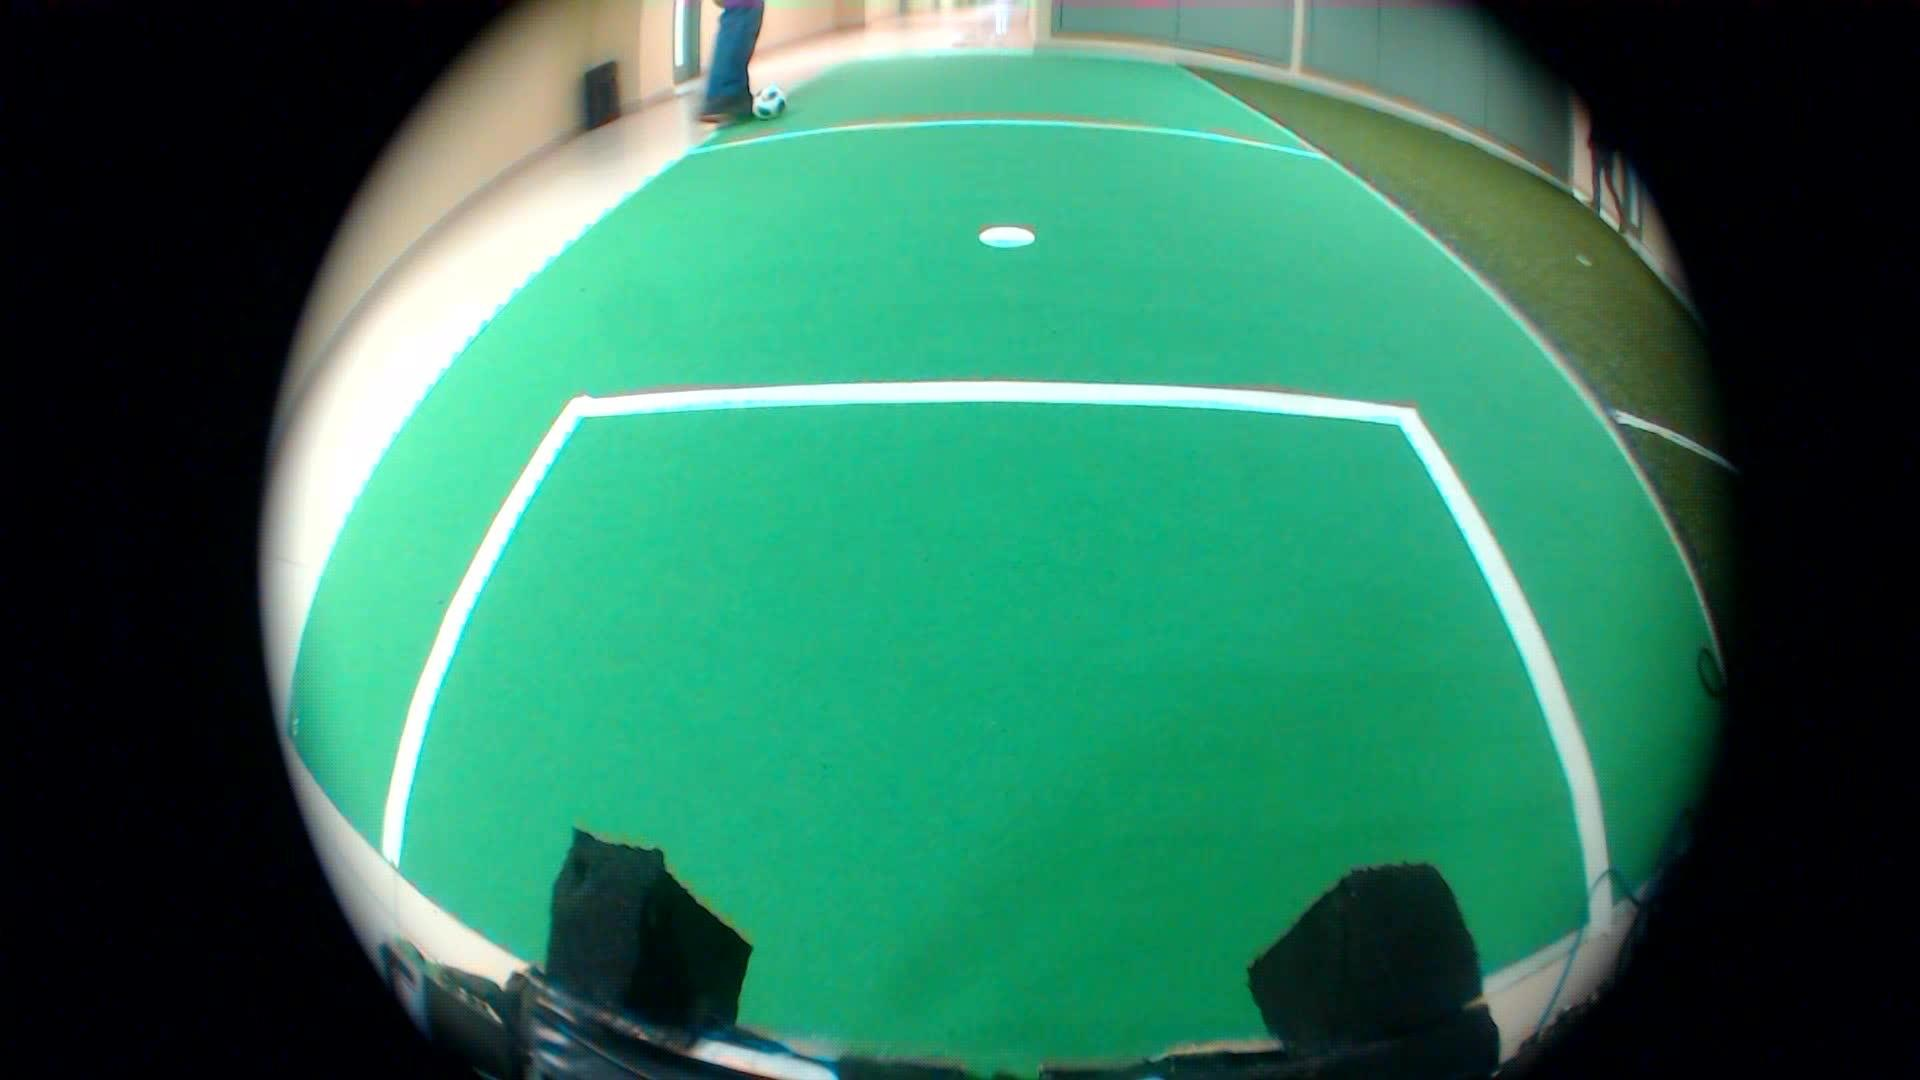ball: (752, 78, 796, 131)
